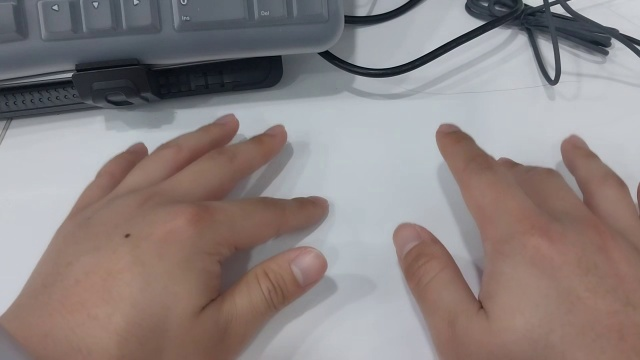fingers: (289, 247, 328, 288), (392, 222, 422, 259), (567, 133, 590, 149), (264, 123, 286, 138), (214, 112, 237, 126), (438, 121, 461, 135), (305, 195, 328, 207), (127, 141, 146, 153)
